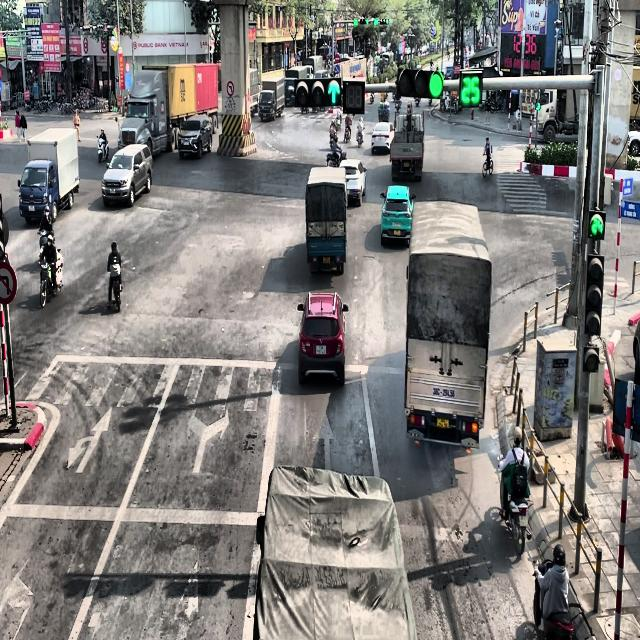lisence_plate: (459, 68, 483, 107), (428, 385, 459, 403), (435, 416, 450, 430), (314, 343, 327, 356), (321, 255, 332, 266), (400, 147, 412, 153), (404, 162, 410, 168)
